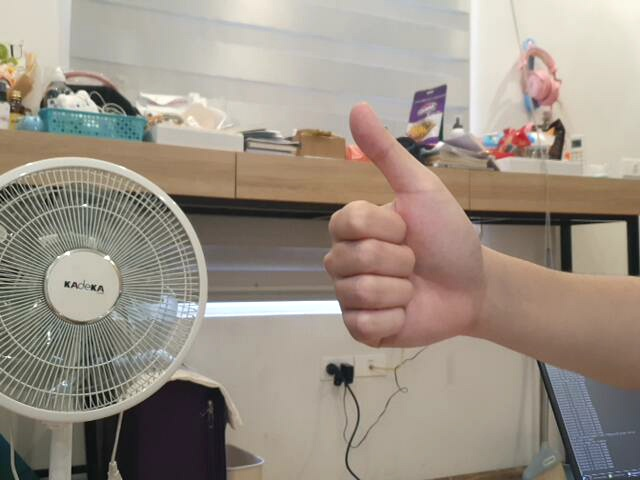ThumbsUp: (319, 100, 489, 352)
